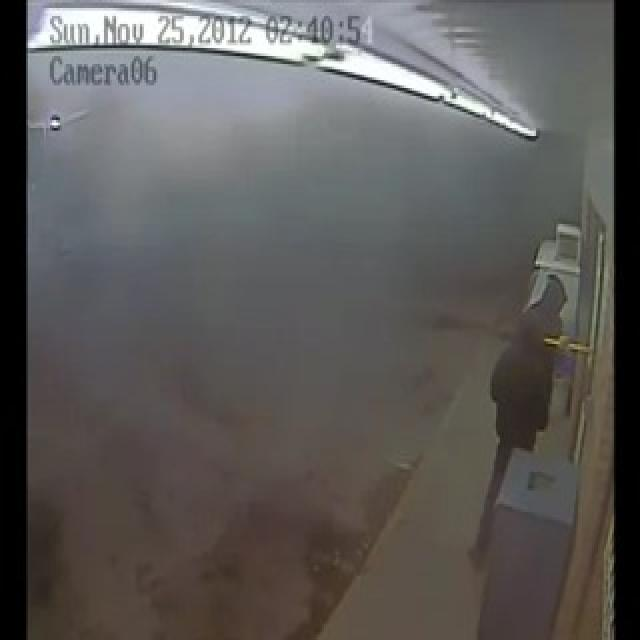burglary: (519, 277, 621, 483)
